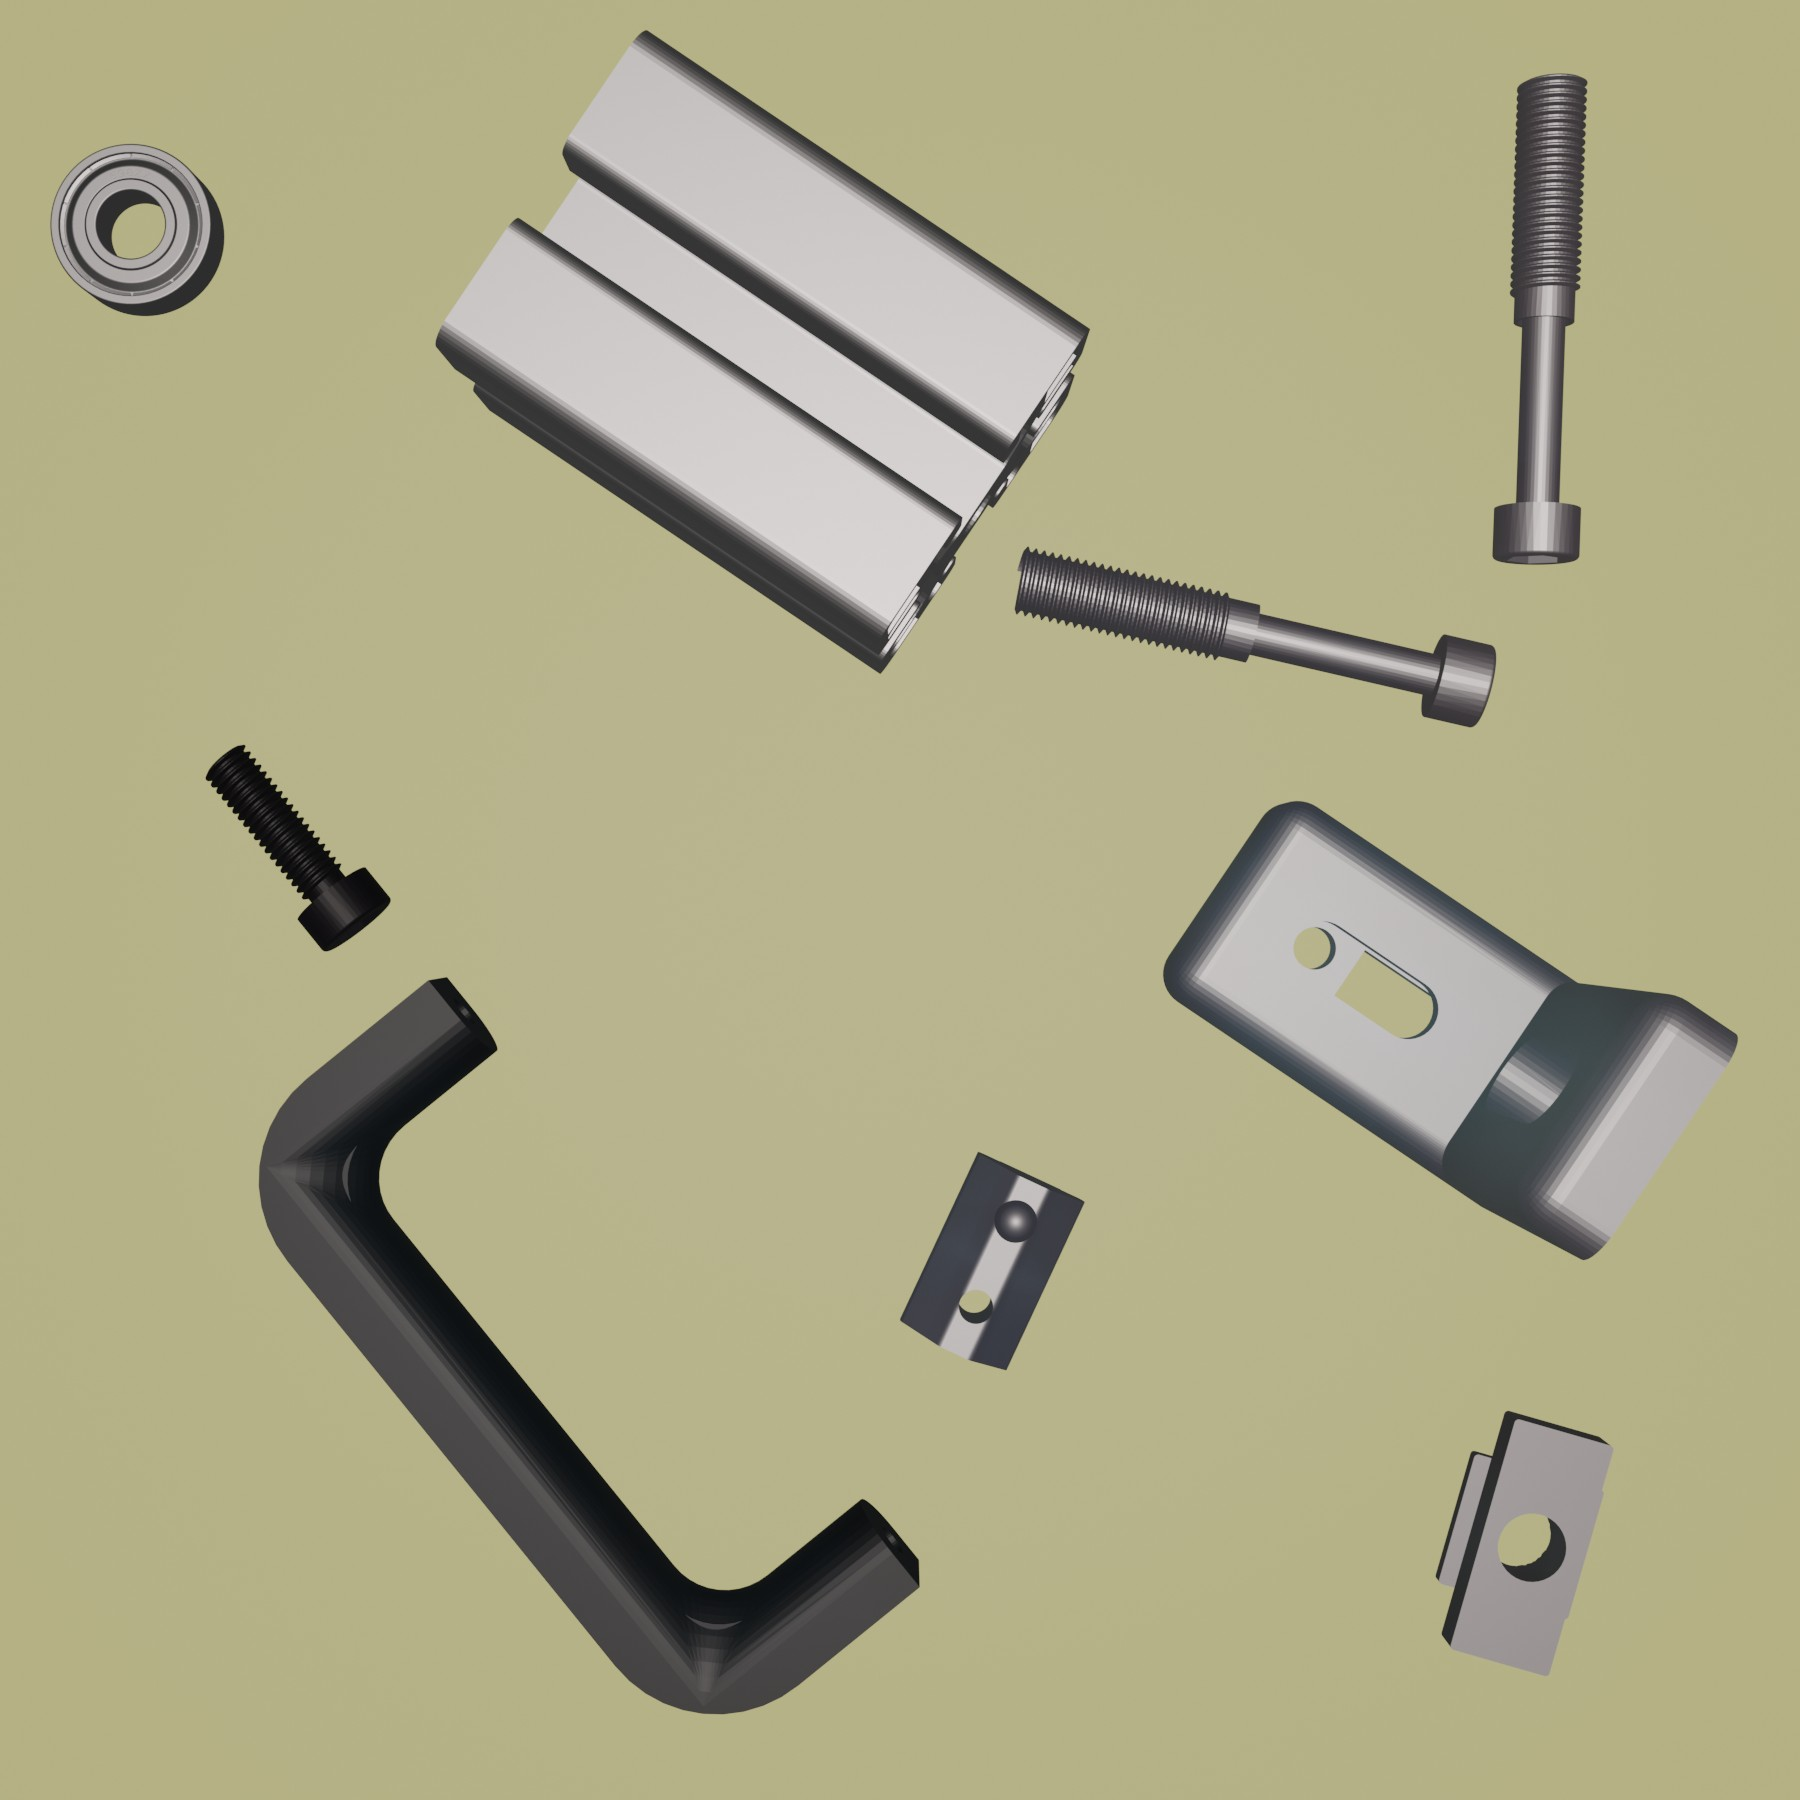Aluminium Extension: (435, 28, 1093, 677)
Ball Bearing: (48, 142, 224, 318)
Multiwinkel: (1160, 799, 1739, 1264)
Pull Handle: (254, 973, 921, 1714)
Shoulder Socket Head Cap Screw: (1012, 547, 1500, 730), (1488, 69, 1591, 569)
Socket Head Cap Screw: (204, 742, 392, 954)
T Nut Square: (1432, 1408, 1614, 1680)
T Spring Nut: (897, 1151, 1086, 1371)
